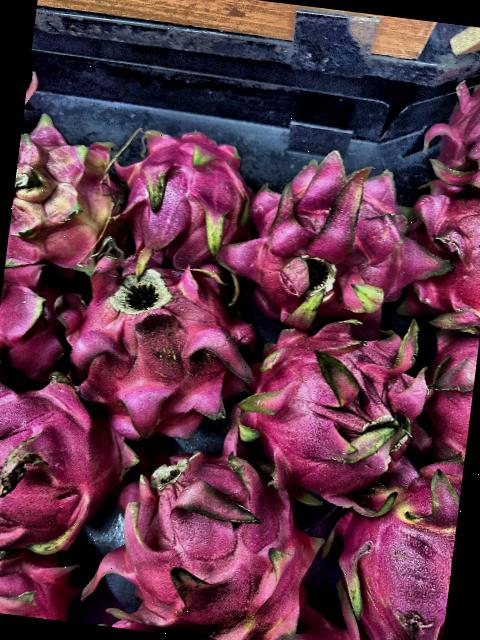buah-naga-belum-matang: (5, 105, 140, 276)
buah-naga-matang: (106, 422, 327, 640), (232, 310, 432, 510), (227, 137, 426, 333), (48, 246, 262, 426), (0, 368, 147, 564), (328, 441, 465, 640), (105, 114, 259, 270), (401, 134, 480, 324), (0, 260, 79, 387), (414, 313, 480, 465), (0, 543, 81, 622), (428, 53, 480, 164)
